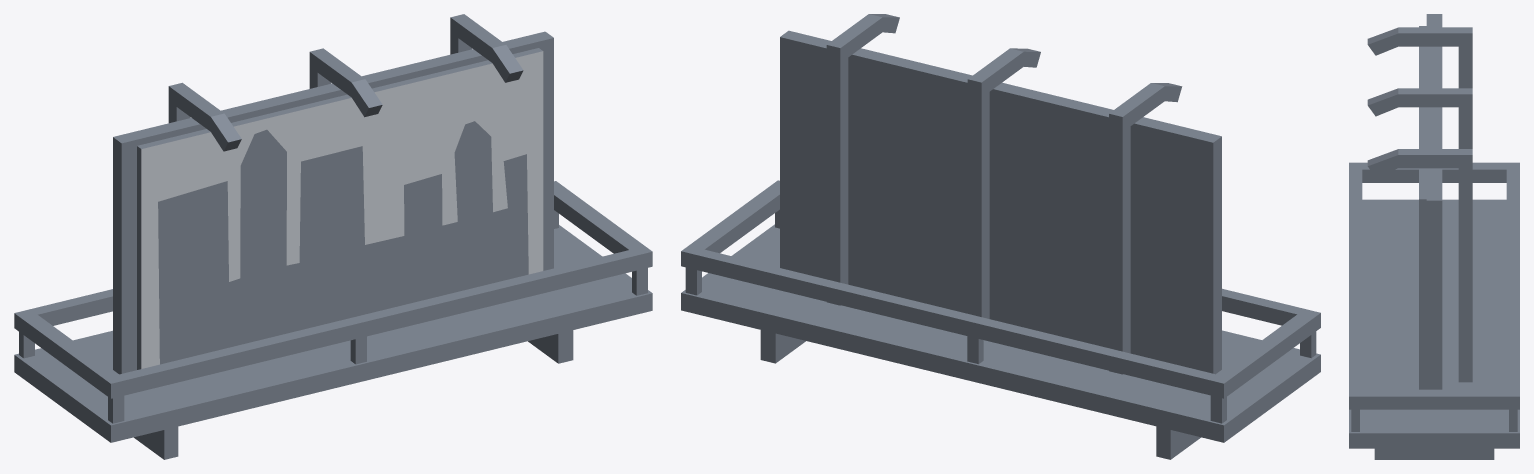
File: Building_Objects_Bilboard_02.fbx
3 views of the same model, side by side, from view 1: azimuth 30°, elevation 25°; view 2: azimuth 150°, elevation 25°; view 3: azimuth 270°, elevation 25° (orthographic). The views are drawn at different scales.
Visible parts, largest first — view 1: Building_Objects_Bilboard_02; view 2: Building_Objects_Bilboard_02; view 3: Building_Objects_Bilboard_02.
Boxes of the visible parts, bbox=[...] form: Building_Objects_Bilboard_02: bbox=[14, 14, 652, 459]; Building_Objects_Bilboard_02: bbox=[681, 14, 1320, 459]; Building_Objects_Bilboard_02: bbox=[1349, 14, 1519, 459].
Bounding box in the file's own units: 647 × 364 × 200.
